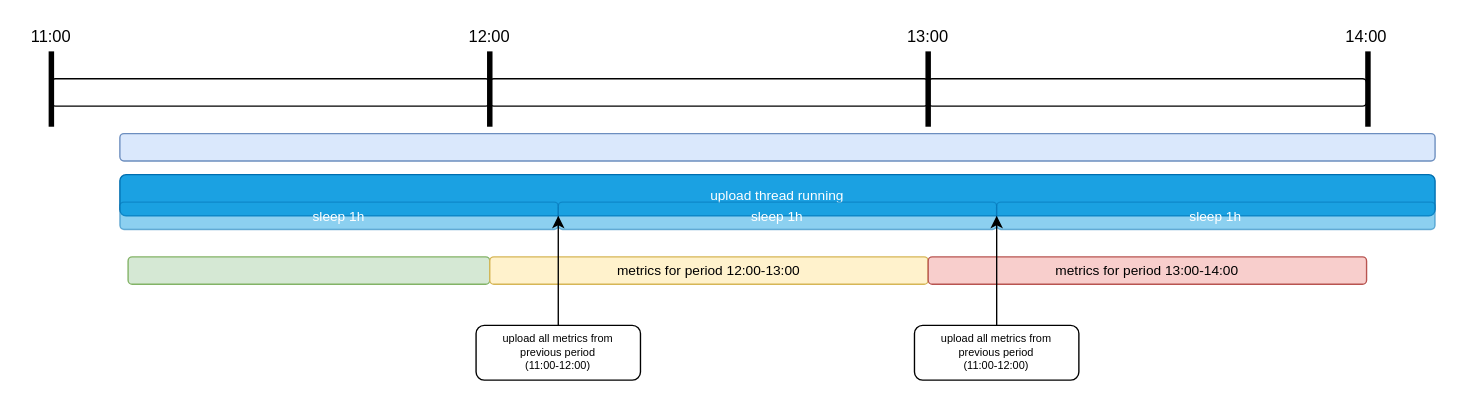
This 1459x404 diagram has some shape labels left out. The centre of each missing label's shape, as x and y in pixels:
"collectd running" goes at (x=777, y=146).
"metrics for period 11:00-12:00" goes at (x=308, y=270).
